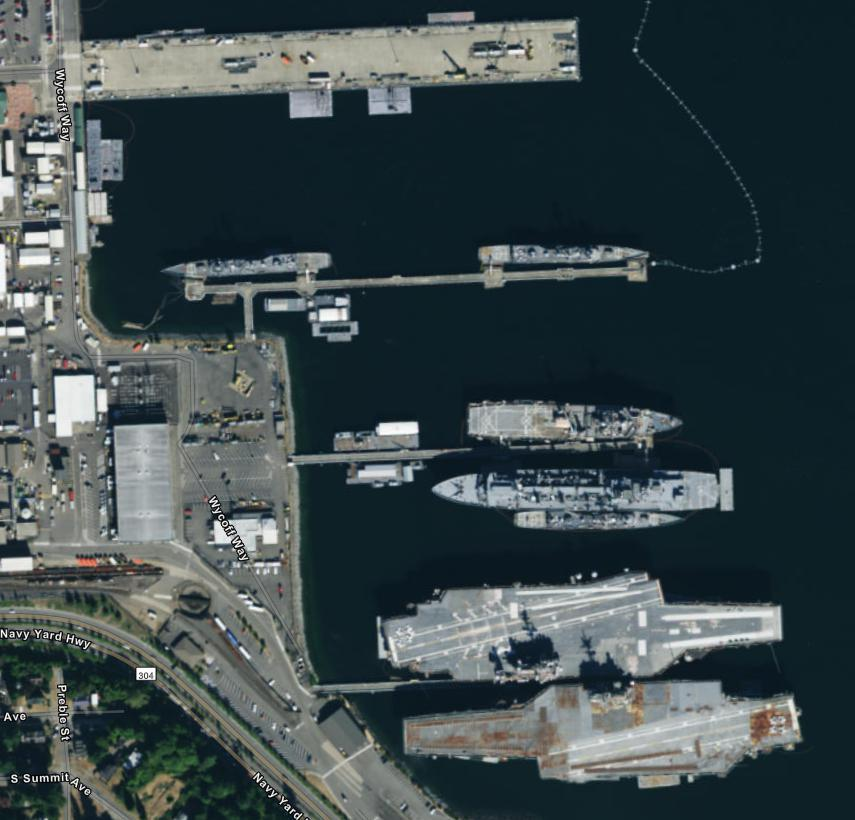carrier: (363, 552, 794, 689), (386, 682, 814, 794)
destroyer: (475, 236, 659, 272), (160, 248, 336, 276)
fregate: (464, 400, 694, 438)
